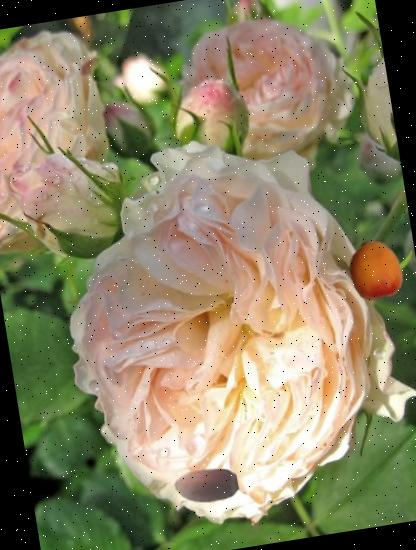Apricot: (341, 237, 410, 306)
Hazelnut: (170, 448, 242, 522)
